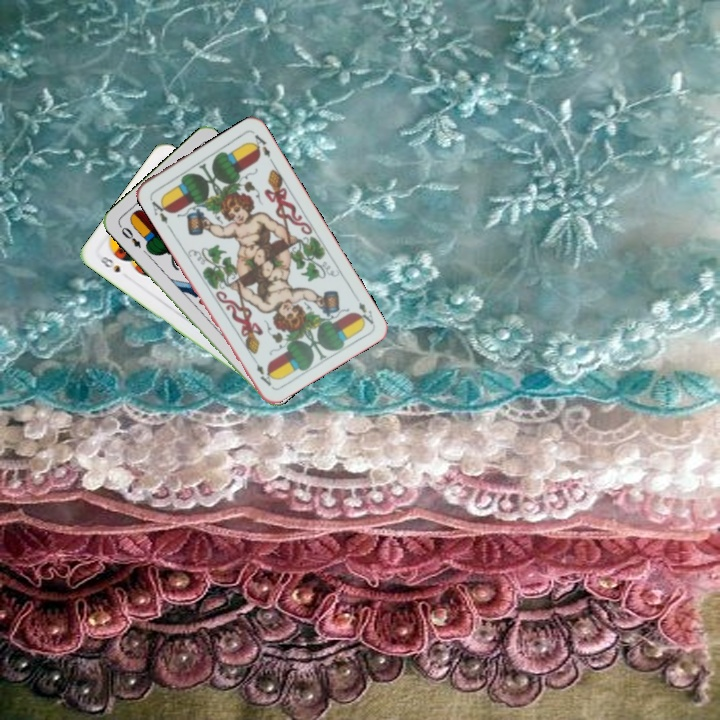EA: (146, 194, 173, 231), (352, 298, 376, 328)
EO: (117, 223, 144, 251)
S8: (96, 252, 123, 275)
